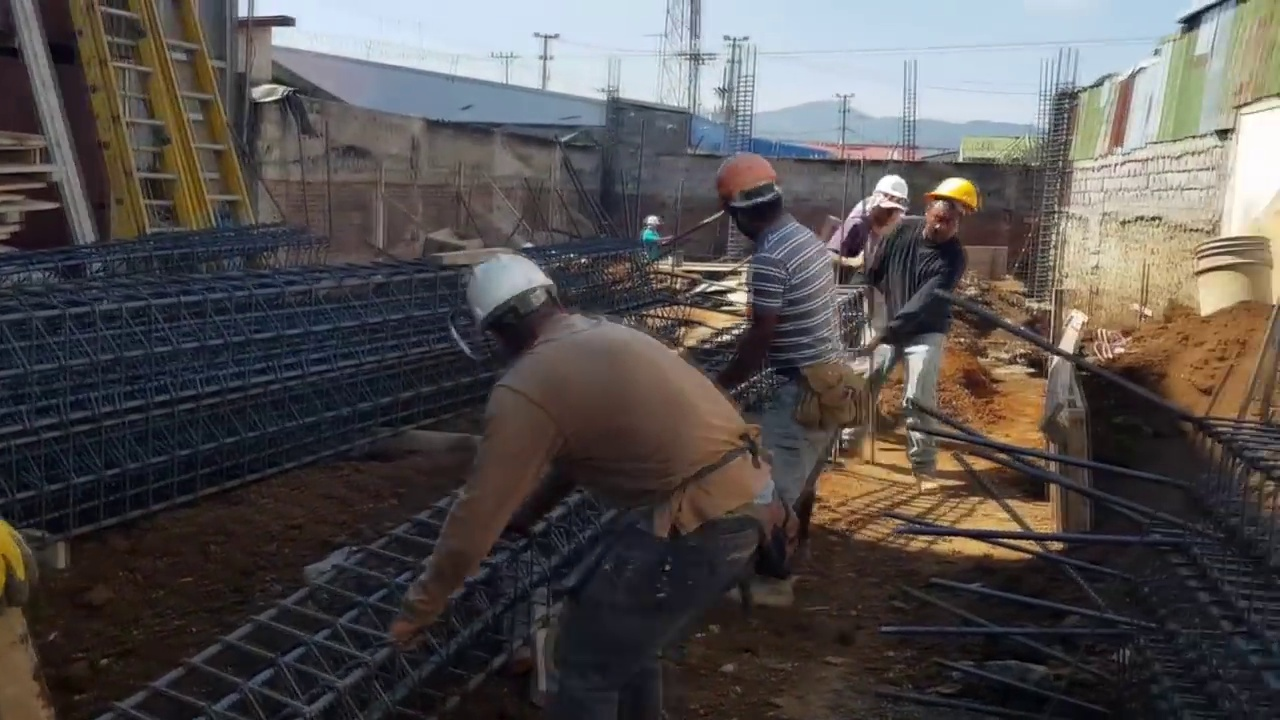helmet: (458, 250, 555, 338), (716, 154, 778, 211), (930, 179, 982, 211), (872, 174, 913, 204), (644, 216, 661, 227)
helmet-on: (452, 247, 578, 366), (716, 154, 793, 238), (912, 177, 982, 247), (871, 175, 912, 226), (644, 216, 661, 234)
person: (412, 256, 775, 667), (718, 162, 845, 548), (861, 171, 986, 460), (828, 171, 921, 312), (638, 215, 675, 261)
